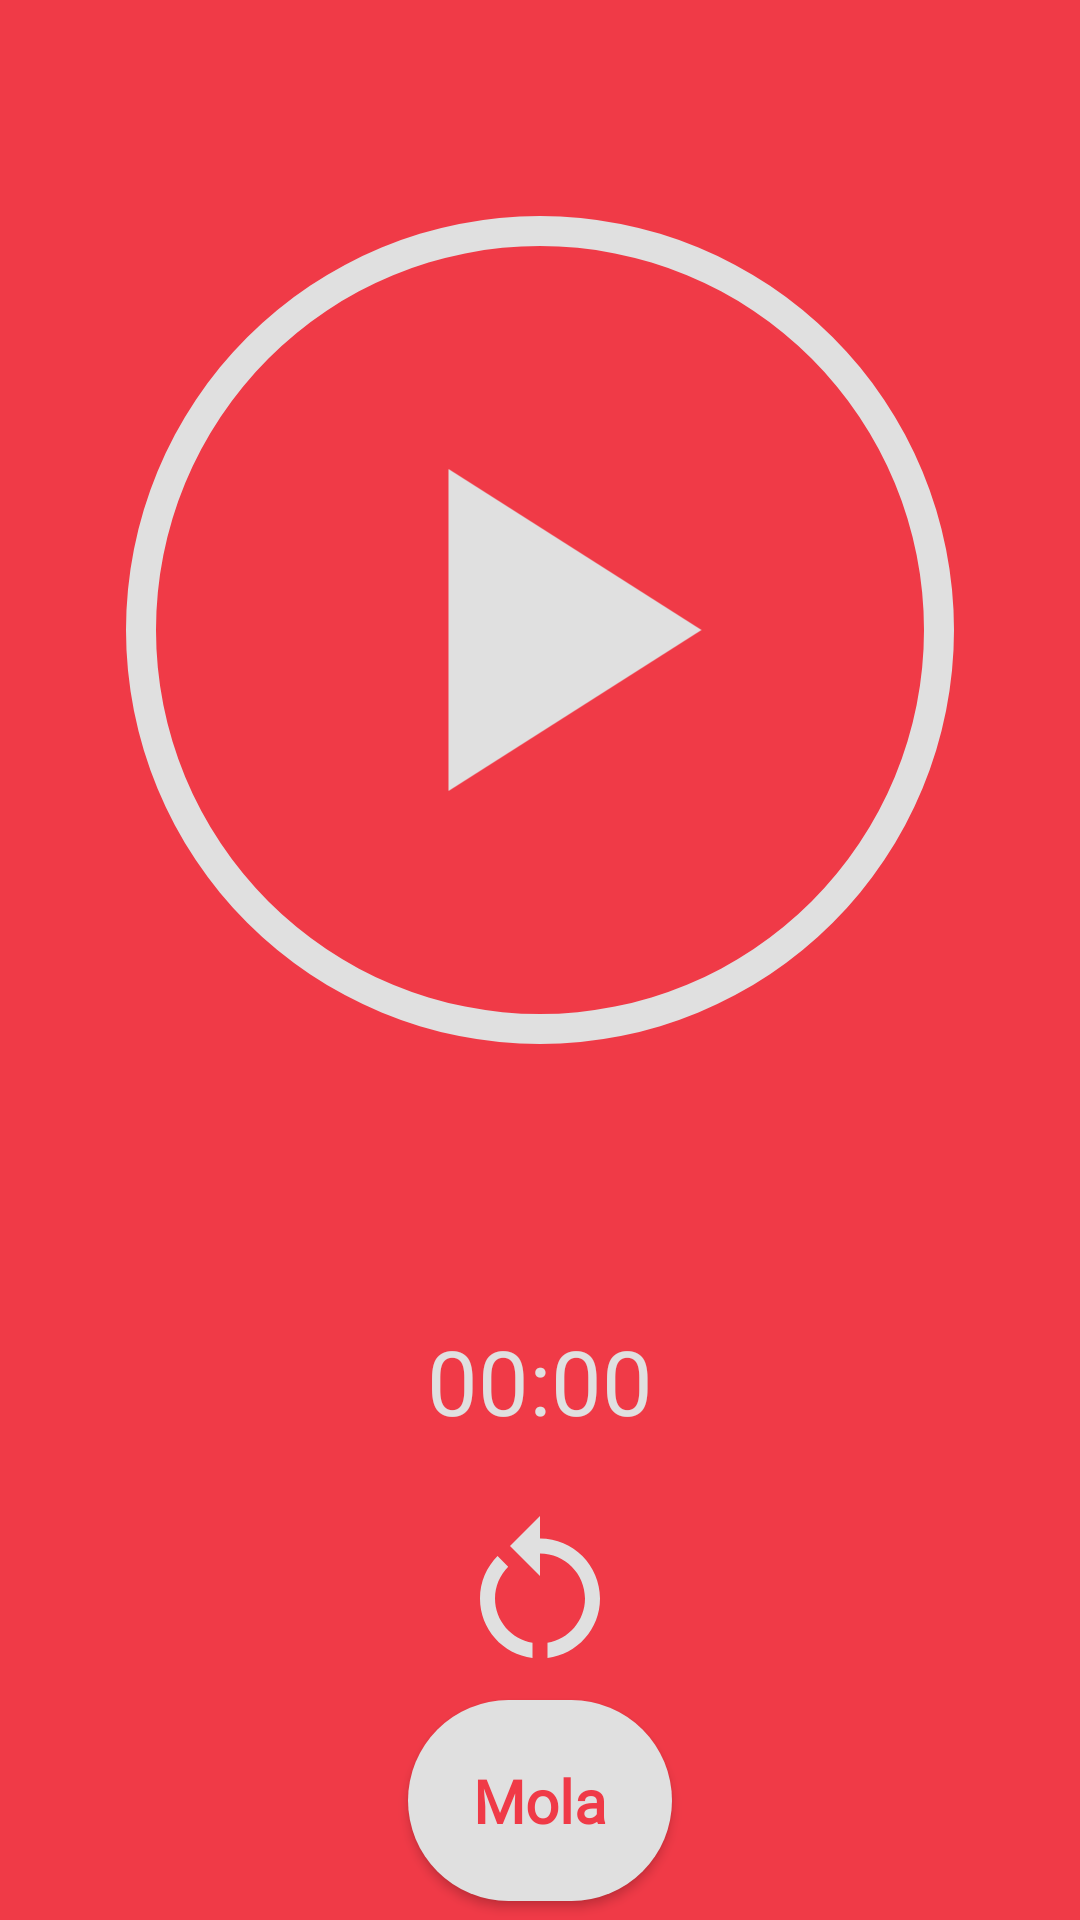

Screen size 1080px×1920px. Icon name, then its box in pixels as (x1, y1, x2, y2):
play circle: (448, 469, 702, 791)
restart: (480, 1516, 600, 1658)
